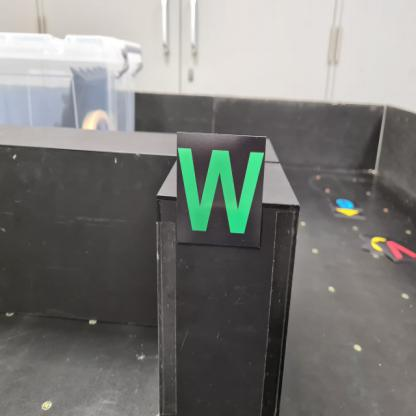w: (176, 131, 267, 250)
